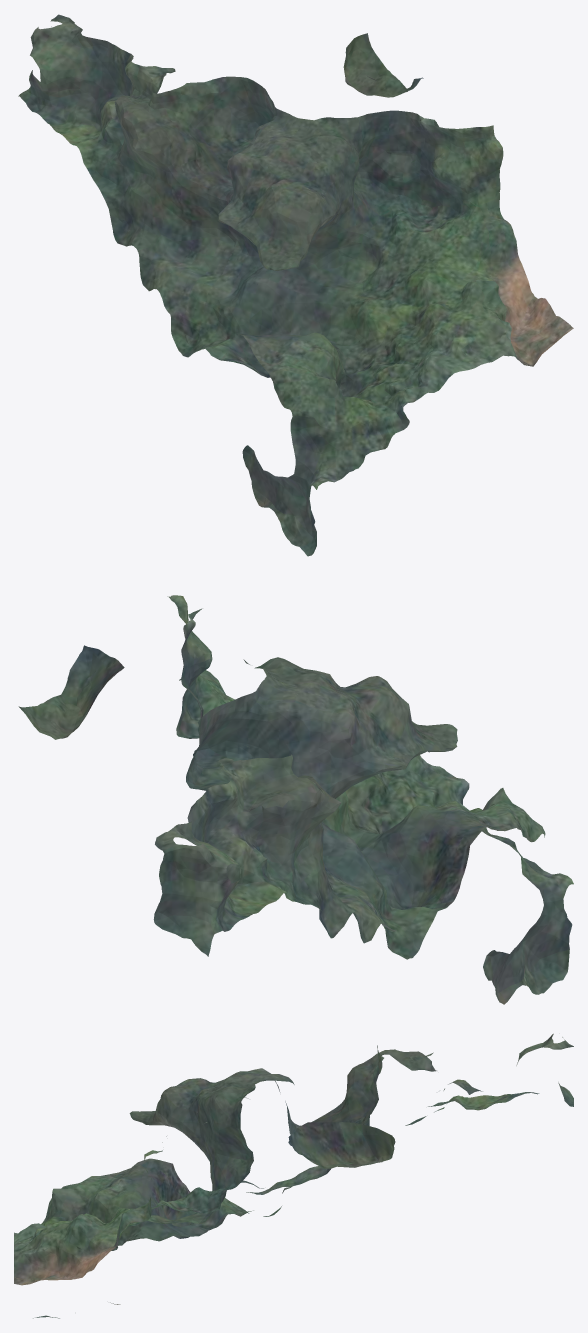
Rendered from Tile_+003_+004_L22_00022000.glb.
The picture shows the model from 3 angles, top to bottom: view 1: azimuth 30°, elevation 25°; view 2: azimuth 150°, elevation 25°; view 3: azimuth 270°, elevation 25°; orthographic projection. The views are drawn at different scales.
Visible parts, largest first — view 1: rtc; view 2: rtc; view 3: rtc.
Boxes of the visible parts, <box> form: rtc: <box>18,14,573,556</box>; rtc: <box>18,595,573,1004</box>; rtc: <box>14,1033,573,1318</box>.
Bounding box in the file's own units: 12.56 × 14.76 × 25.59.
1 material, 1 textured.
